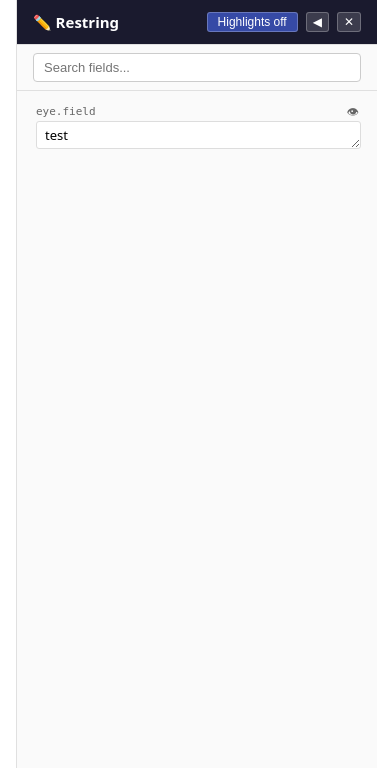
Test: RestringSidebar › shows eye toggle when highlight mode is on
Click the button named "Hide highlight for eye.field" at (353, 112), box [345,106,361,118]
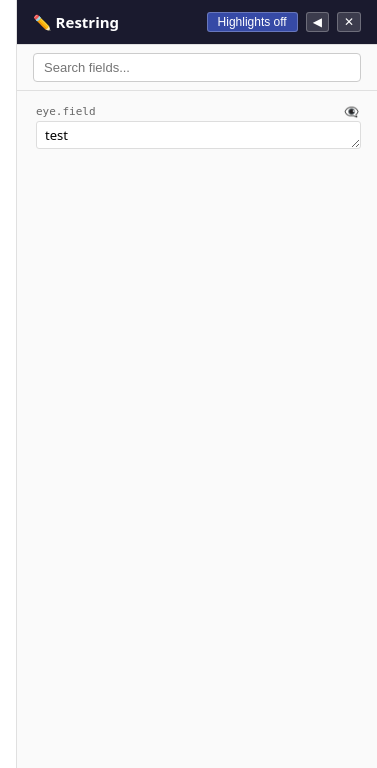
Check: the button named "Show highlight for eye.field" is shown, box [342,106,361,118]
